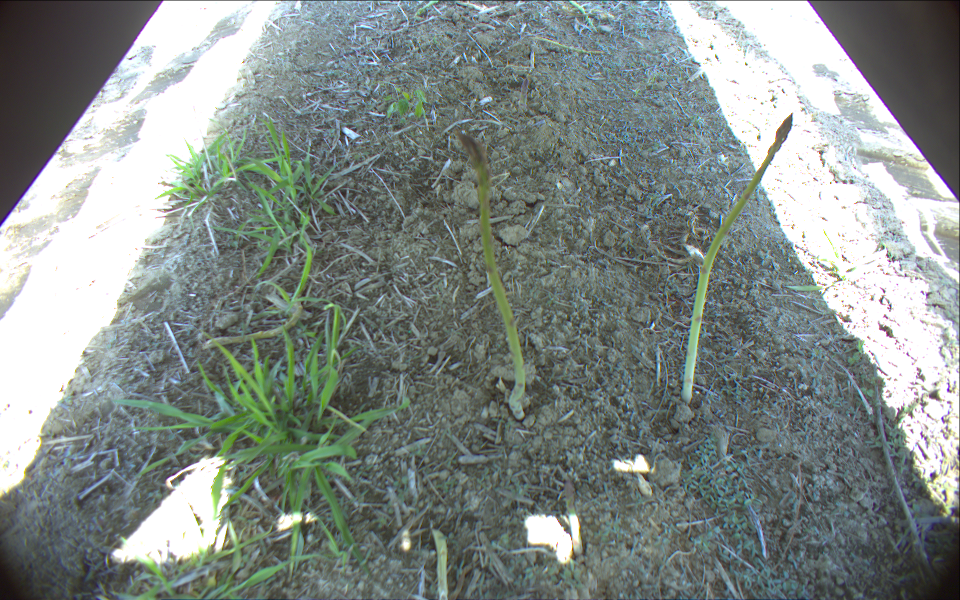aspa: (682, 112, 794, 404), (452, 130, 526, 422), (203, 306, 302, 353), (562, 475, 584, 556), (431, 529, 450, 600), (531, 37, 605, 55), (567, 1, 598, 30), (517, 77, 529, 115), (415, 1, 438, 16)
